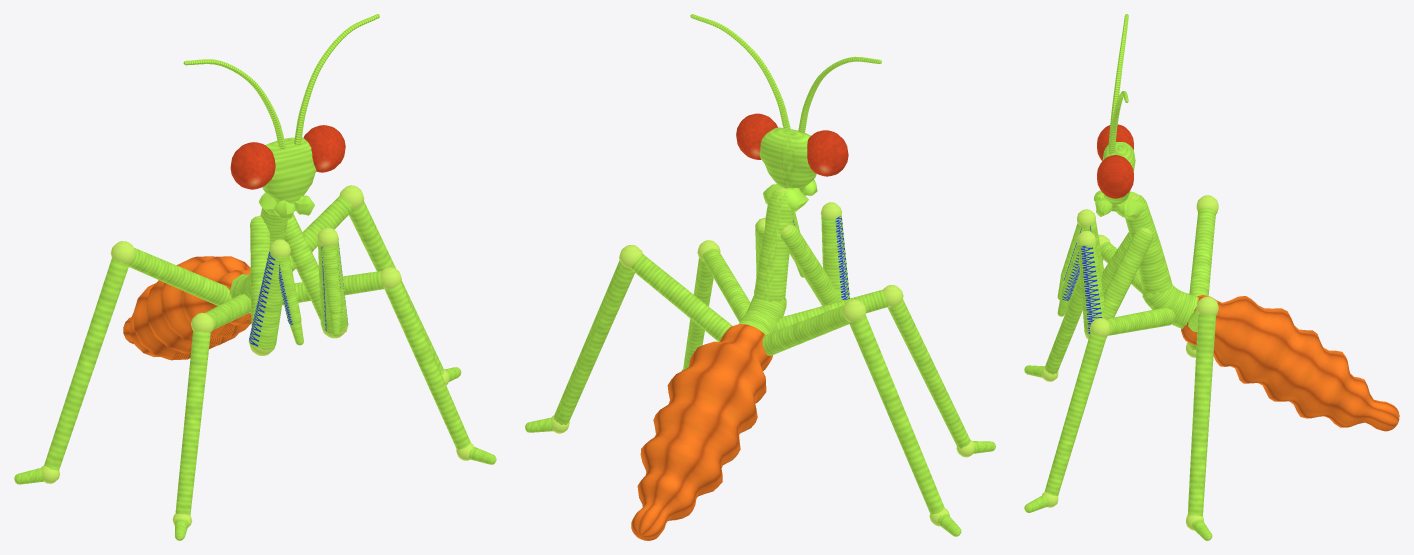
File: praying-mantis.glb
3 views of the same model, side by side, from view 1: azimuth 30°, elevation 25°; view 2: azimuth 150°, elevation 25°; view 3: azimuth 270°, elevation 25° (orthographic). The views are drawn at different scales.
Parts seen in each view (by area): view 1: mantis, head; view 2: mantis, head; view 3: mantis, head.
Boxes of the visible parts, x1,y1,x2,y2 form: mantis: [14, 185, 496, 540]; head: [183, 14, 379, 219]; mantis: [525, 188, 995, 540]; head: [690, 14, 881, 211]; mantis: [1024, 194, 1399, 540]; head: [1094, 14, 1143, 219].
Size of the model in its own units: 3.71 by 3.39 by 2.97.
Materials: 2 (2 with a texture image).
